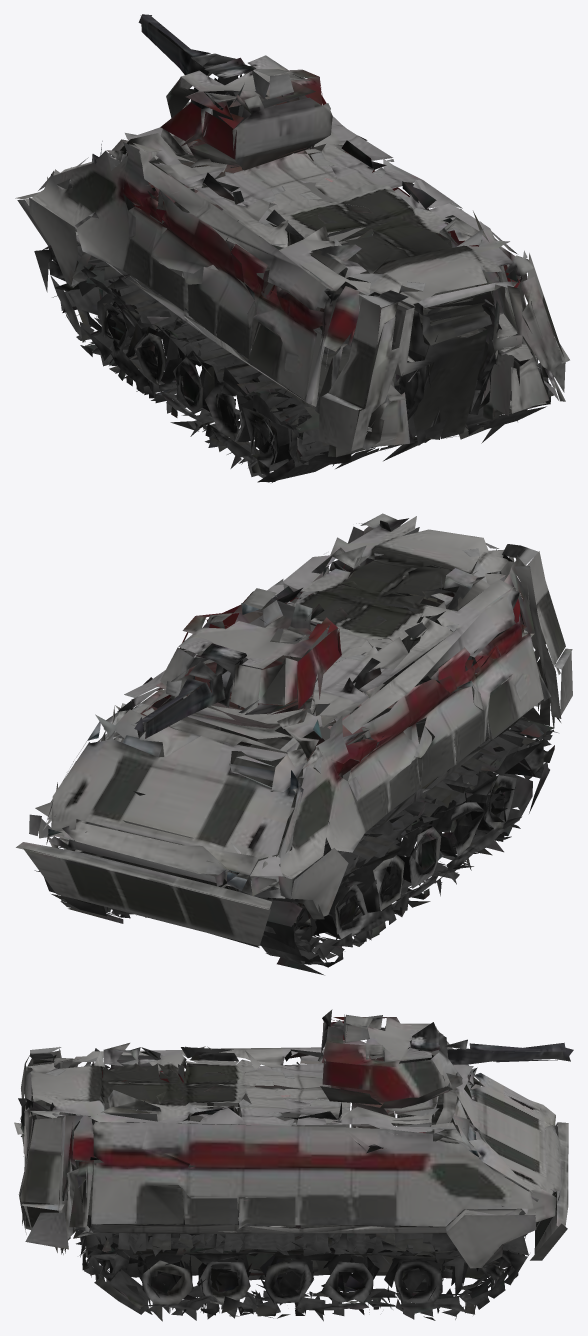
File: seadragon.glb
3 views of the same model, one above another, from view 1: azimuth 30°, elevation 25°; view 2: azimuth 150°, elevation 25°; view 3: azimuth 270°, elevation 25° (orthographic). The views are drawn at different scales.
Visible parts, largest first — view 1: Mesh_0; view 2: Mesh_0; view 3: Mesh_0.
Boxes of the visible parts, x1,y1,x2,y2 form: Mesh_0: (15, 14, 569, 482); Mesh_0: (16, 513, 572, 975); Mesh_0: (14, 1009, 573, 1321).
Bounding box in the file's own units: 0.4963 × 0.5218 × 1.03.
1 material, 1 textured.
